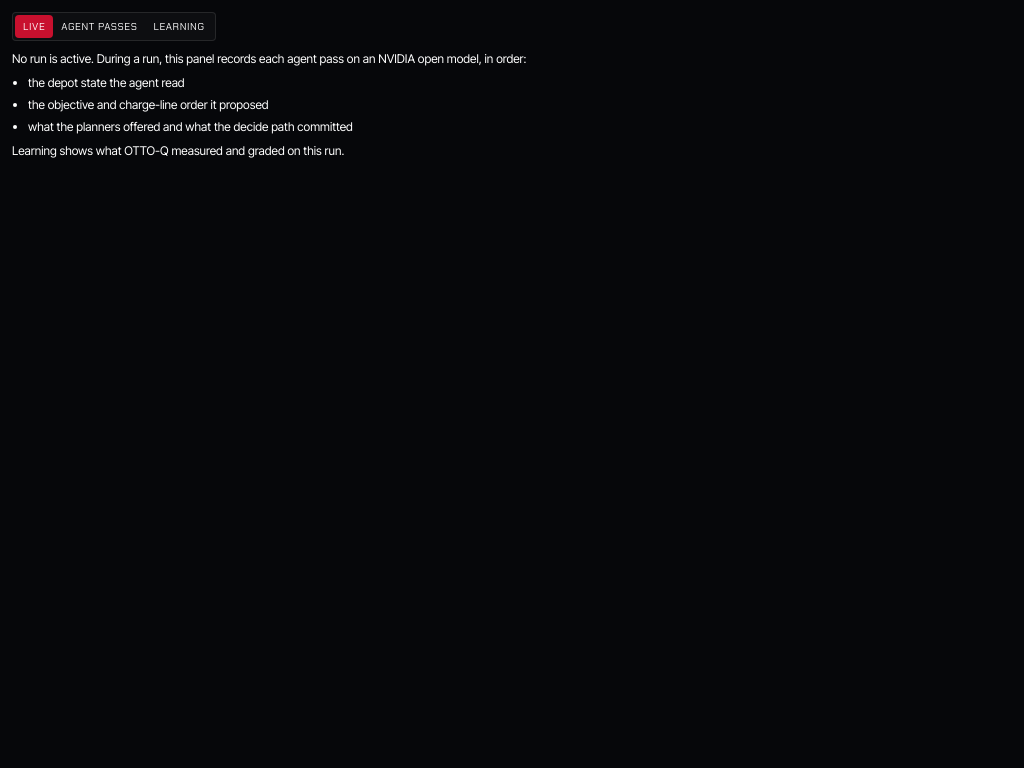
Test case: Agent tab › with no run, keeps the toggle, and Learning still shows the challenger and the research wing
The width and height of the screenshot is (1024, 768).
Expected: the text "No run is active" is shown, [12,51,526,66]
Expected: the text "Challenger" is not shown
Click the tab "Learning": (179, 26) [145,15,212,38]
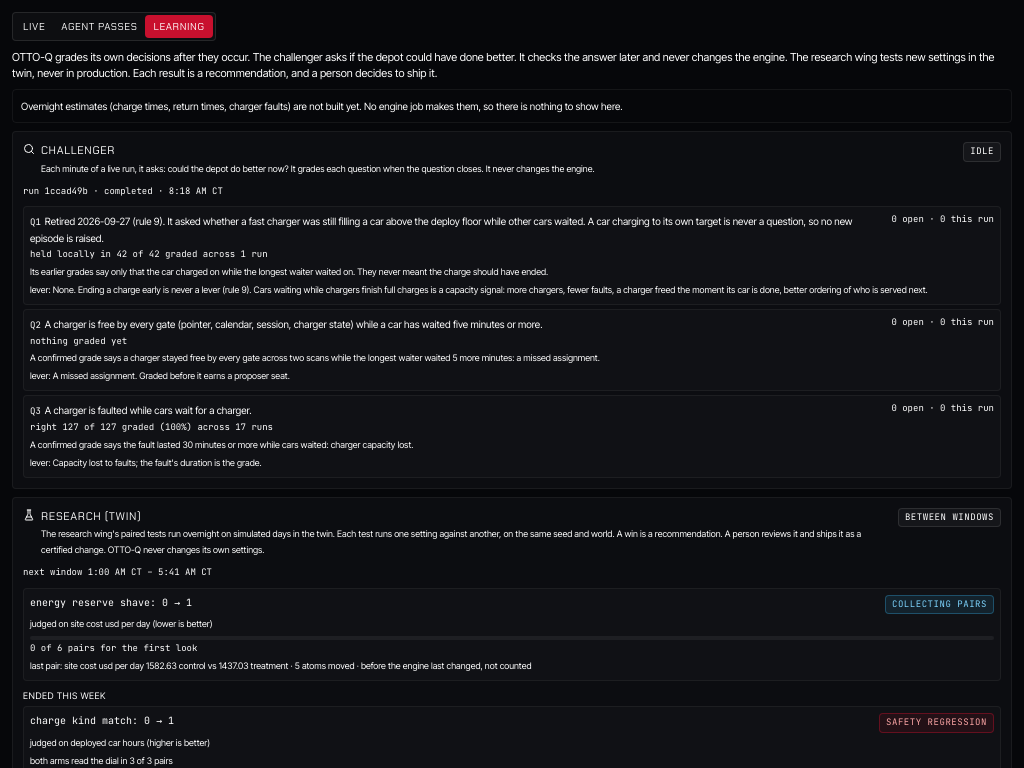
Now the text "Challenger" is shown, box [41,143,115,157]
Now the text "Research (twin)" is shown, box [41,508,141,522]
Now the text "No run is active" is gone
